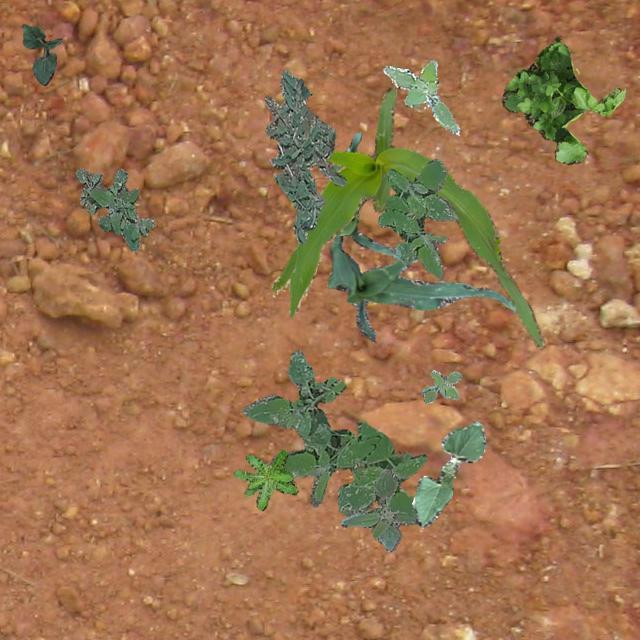crop: (271, 88, 544, 346), (327, 234, 516, 340), (331, 132, 416, 262), (410, 420, 486, 526), (20, 22, 60, 84)
weed: (242, 348, 424, 516), (500, 36, 624, 164), (264, 70, 346, 242), (376, 158, 456, 278), (74, 167, 154, 250), (340, 468, 418, 550), (382, 58, 460, 134), (232, 448, 296, 509), (420, 368, 460, 402)
